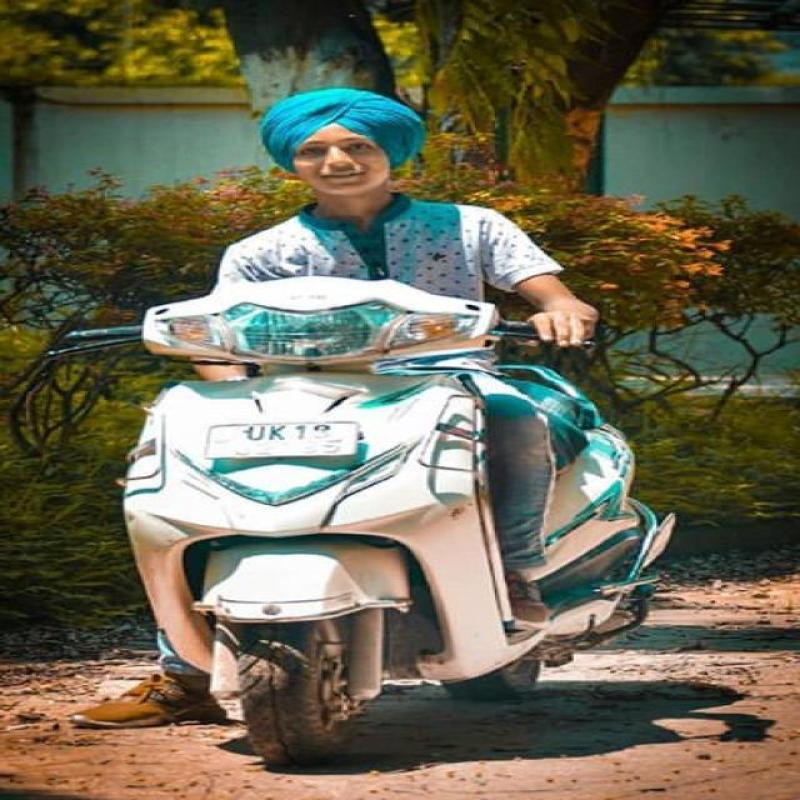nohelmet: (240, 82, 469, 208)
